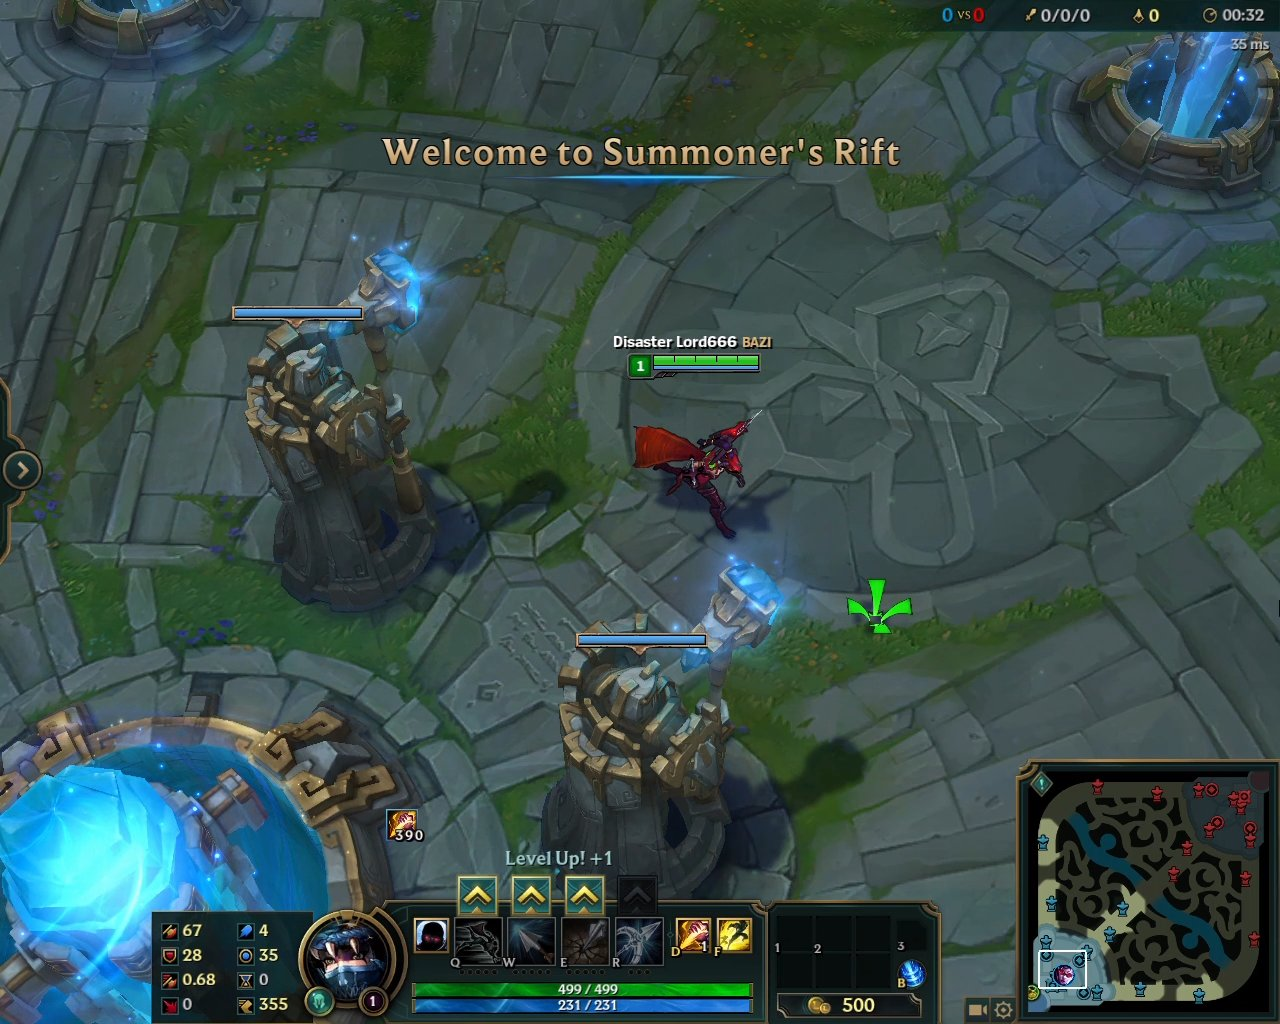Vayne: (626, 408, 763, 544)
